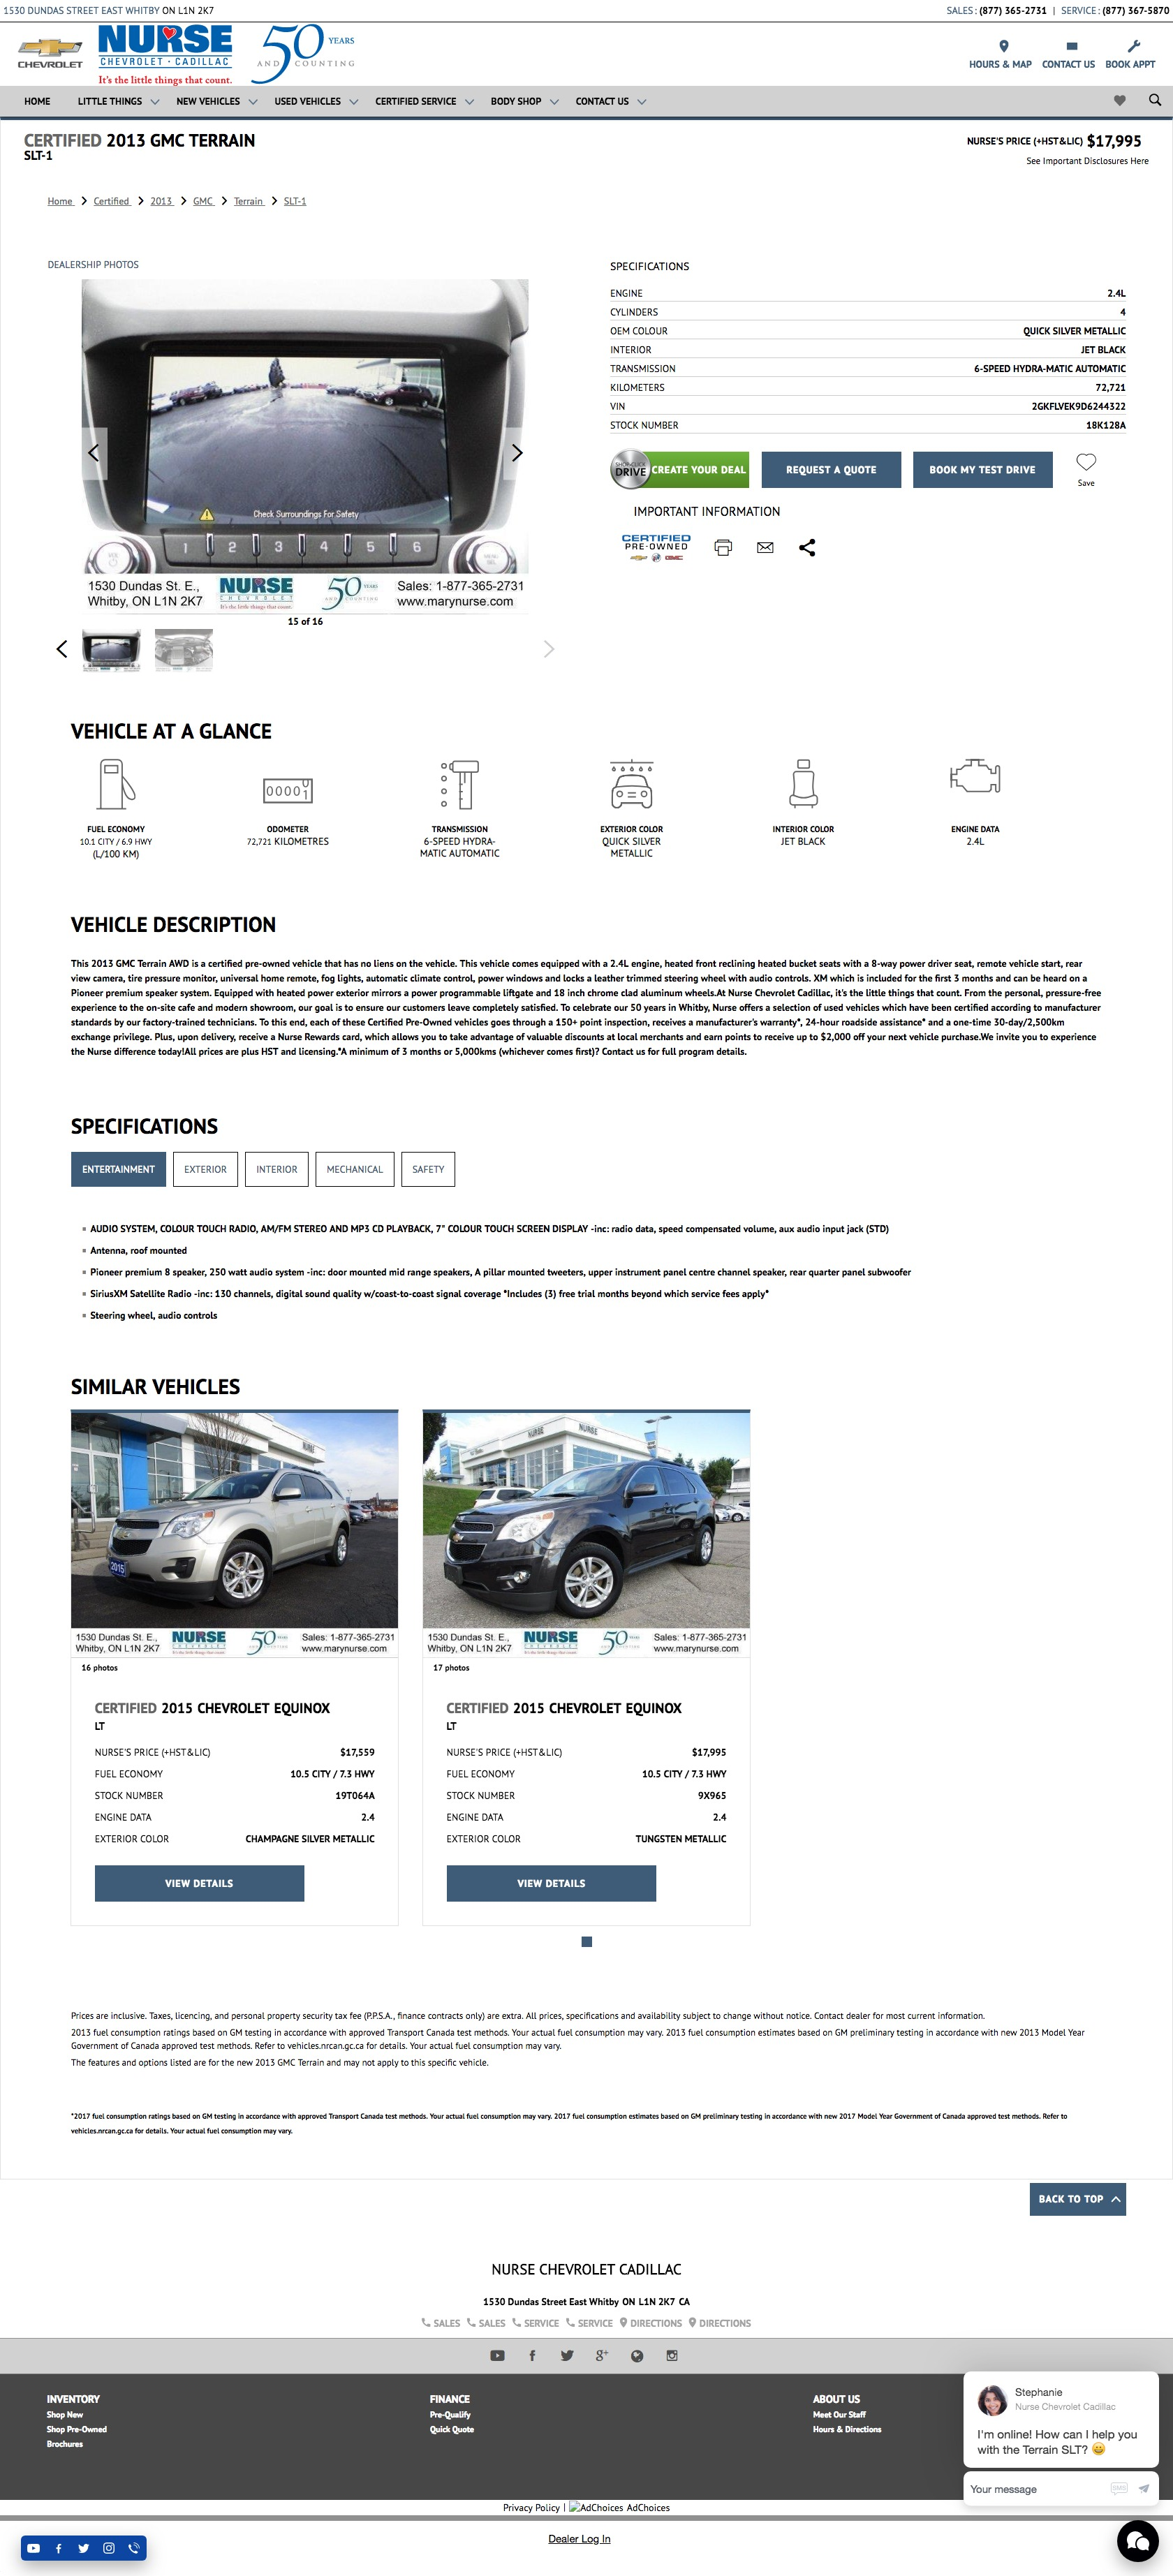car: (544, 637, 557, 660)
